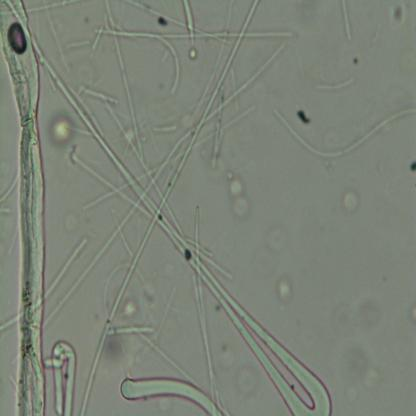Background material: (334, 338, 382, 406), (225, 170, 254, 220), (96, 330, 132, 366), (46, 108, 78, 148), (274, 274, 295, 304), (121, 294, 141, 319), (390, 3, 408, 30), (342, 189, 360, 214), (295, 107, 312, 127), (187, 43, 199, 63), (157, 14, 169, 28), (408, 158, 416, 176), (410, 302, 416, 324)
Cotton: (0, 0, 47, 415)
Glass filter fibre: (80, 0, 259, 416), (159, 218, 332, 414), (39, 59, 160, 220), (270, 103, 416, 160), (206, 40, 285, 124), (193, 202, 223, 402), (104, 0, 142, 156), (121, 376, 226, 415), (96, 26, 294, 42), (44, 238, 88, 301), (50, 340, 77, 416), (213, 83, 227, 172), (164, 39, 182, 95), (0, 167, 20, 208), (83, 87, 118, 105), (315, 77, 356, 92), (106, 326, 157, 338), (340, 0, 354, 42), (182, 0, 195, 42), (153, 124, 177, 134)
